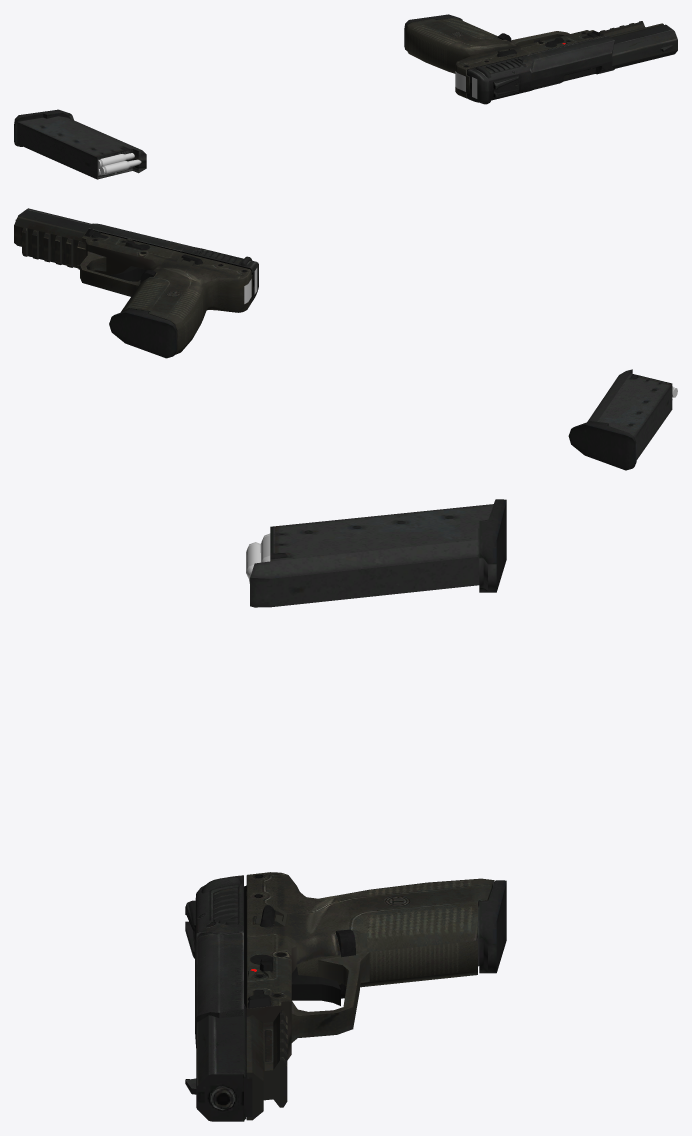
The model's file is t6_wpn_pistol_fiveseven_view_LOD0.obj.
3 views of the same model, one above another, from view 1: azimuth 30°, elevation 25°; view 2: azimuth 150°, elevation 25°; view 3: azimuth 270°, elevation 25° (orthographic). The views are drawn at different scales.
Parts seen in each view (by area): view 1: mtl_t6_wpn_pistol_fiveseven_camo1, mtl_t6_wpn_pistol_fiveseven_camo2, mtl_t6_wpn_pistol_fiveseven_camo3, mtl_t6_attach_bullet; view 2: mtl_t6_wpn_pistol_fiveseven_camo1, mtl_t6_wpn_pistol_fiveseven_camo2, mtl_t6_wpn_pistol_fiveseven_camo3; view 3: mtl_t6_wpn_pistol_fiveseven_camo1, mtl_t6_wpn_pistol_fiveseven_camo2, mtl_t6_wpn_pistol_fiveseven_camo3.
Part boxes in pixels (<box>): mtl_t6_wpn_pistol_fiveseven_camo1: <box>14,17,663,179</box>; mtl_t6_wpn_pistol_fiveseven_camo2: <box>404,14,677,104</box>; mtl_t6_wpn_pistol_fiveseven_camo3: <box>469,36,614,101</box>; mtl_t6_attach_bullet: <box>98,153,141,175</box>; mtl_t6_wpn_pistol_fiveseven_camo1: <box>14,216,672,470</box>; mtl_t6_wpn_pistol_fiveseven_camo2: <box>15,208,258,358</box>; mtl_t6_wpn_pistol_fiveseven_camo3: <box>88,223,256,287</box>; mtl_t6_wpn_pistol_fiveseven_camo1: <box>210,499,506,1120</box>; mtl_t6_wpn_pistol_fiveseven_camo2: <box>185,875,506,1121</box>; mtl_t6_wpn_pistol_fiveseven_camo3: <box>185,875,243,1016</box>.
Size of the model in its own units: 71.11 by 4.15 by 16.78.
